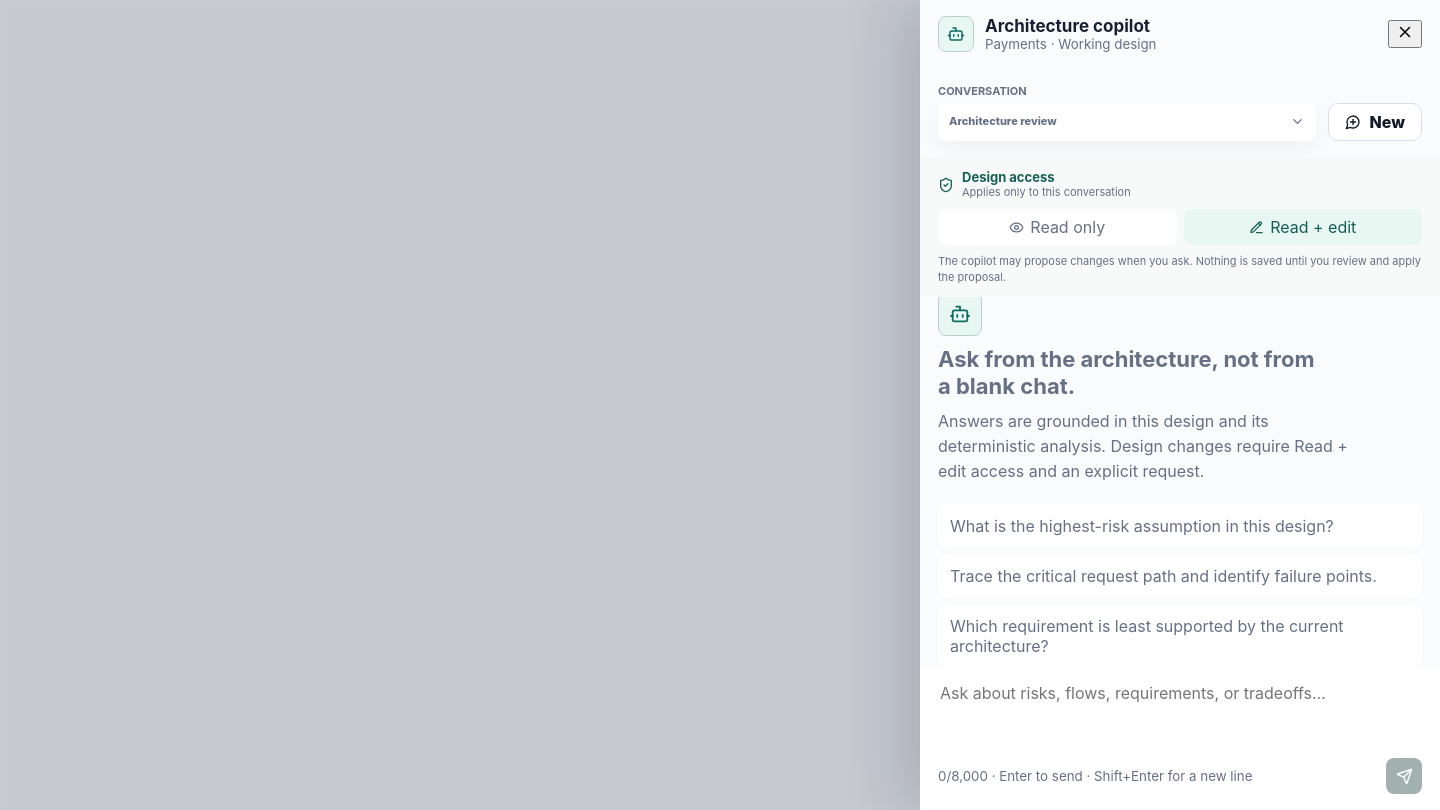
AIChatPanel tool access › keeps a stale proposal reviewable when Apply fails instead of overwriting local state
(page scrolled)
Expected: the button "Read + edit" is shown, [1184, 209, 1422, 245]
In the text box with placeholder "Ask about risks, flows, requirements, or tradeoffs…": (1180, 717) [938, 680, 1422, 754], type "Improve design"
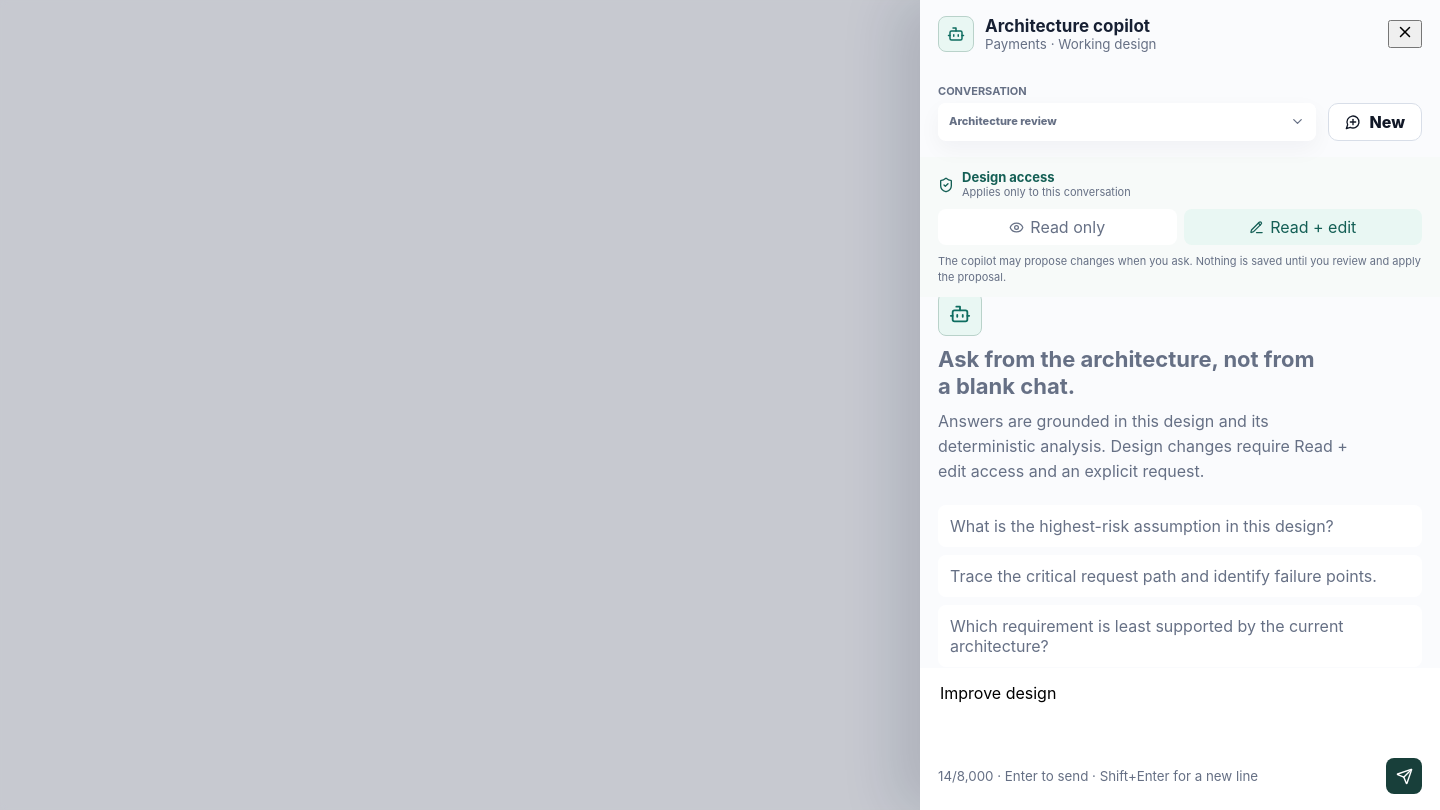
Click the button named "Send message": (1404, 776) [1386, 758, 1422, 794]
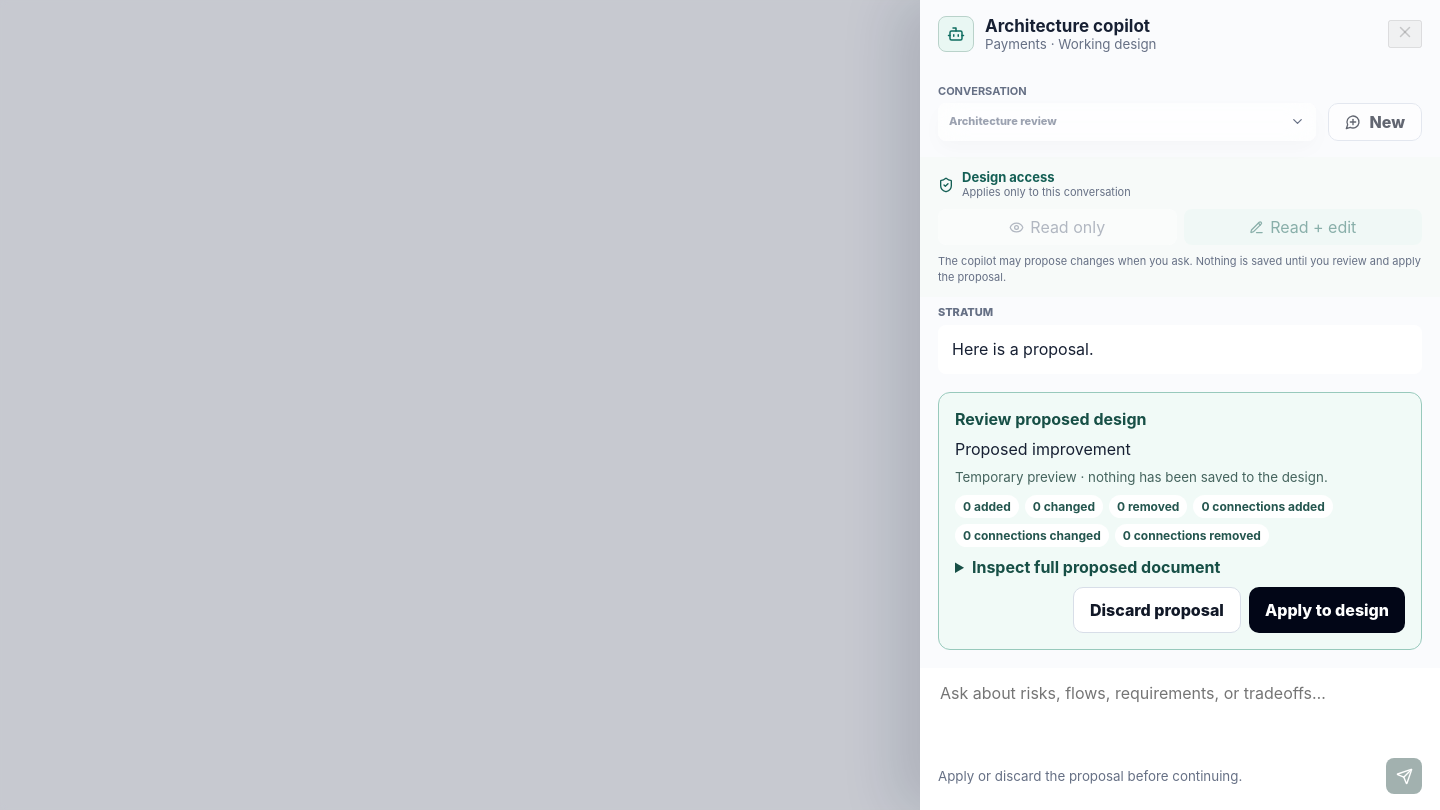
Expected: the text "Proposed improvement" is shown, [955, 439, 1131, 459]
Click the button "Apply to design": (1327, 610) [1249, 587, 1405, 633]
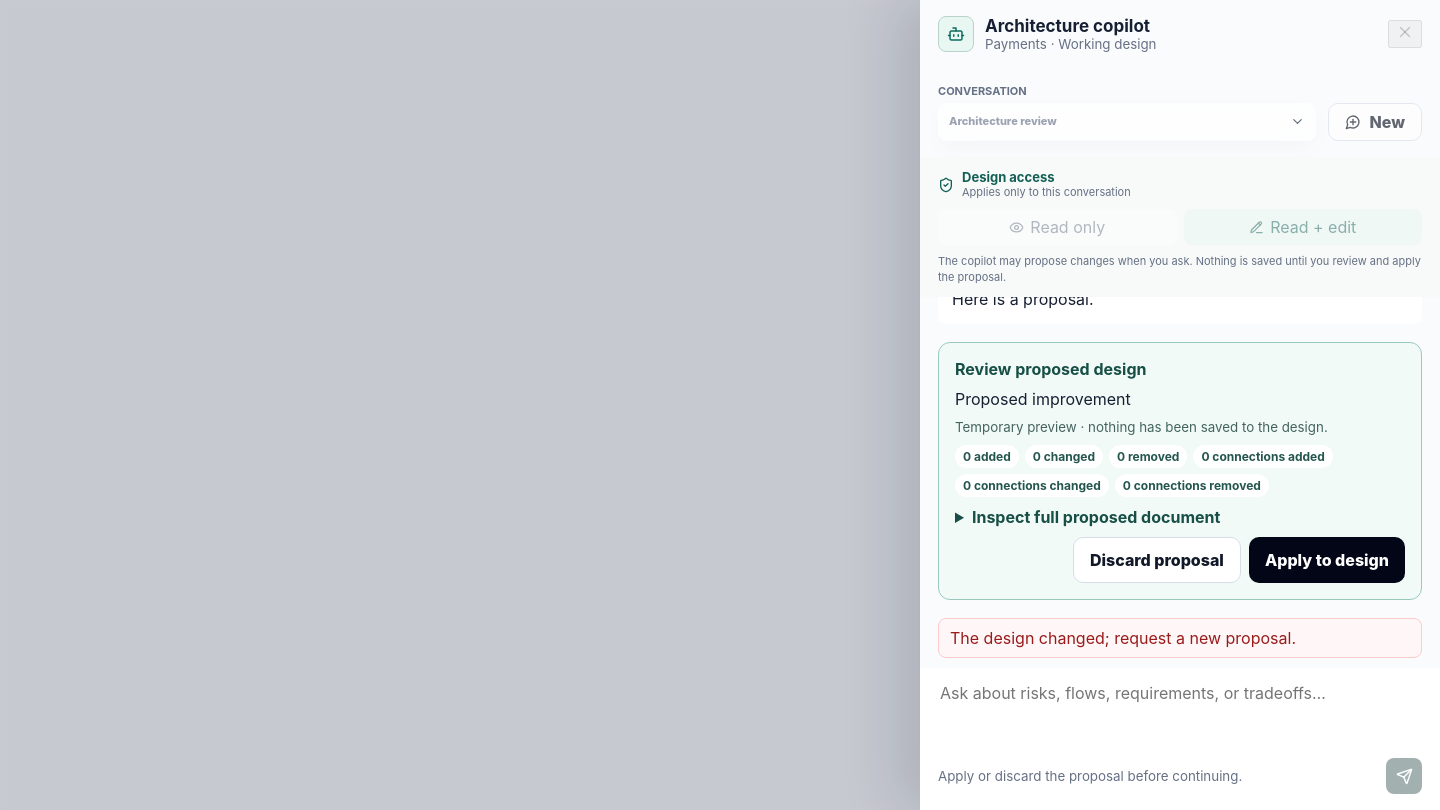
Expected: the text "Proposed improvement" is shown, [955, 389, 1131, 409]
Expected: the message shows "design changed", [950, 628, 1296, 648]
